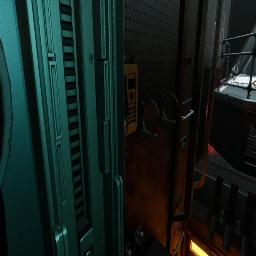EmergencyPhone ,: (124, 43, 138, 137)
